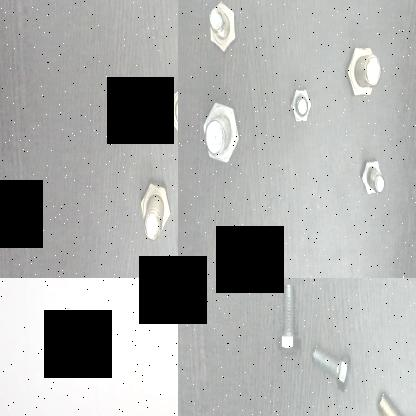Bolts: (198, 90, 242, 171), (342, 42, 387, 106), (308, 336, 352, 400), (138, 171, 174, 248), (272, 282, 302, 368), (207, 0, 237, 62), (287, 80, 315, 132), (373, 384, 416, 416), (358, 156, 386, 204), (165, 78, 178, 140)
